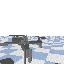drone: (0, 34, 45, 62)
